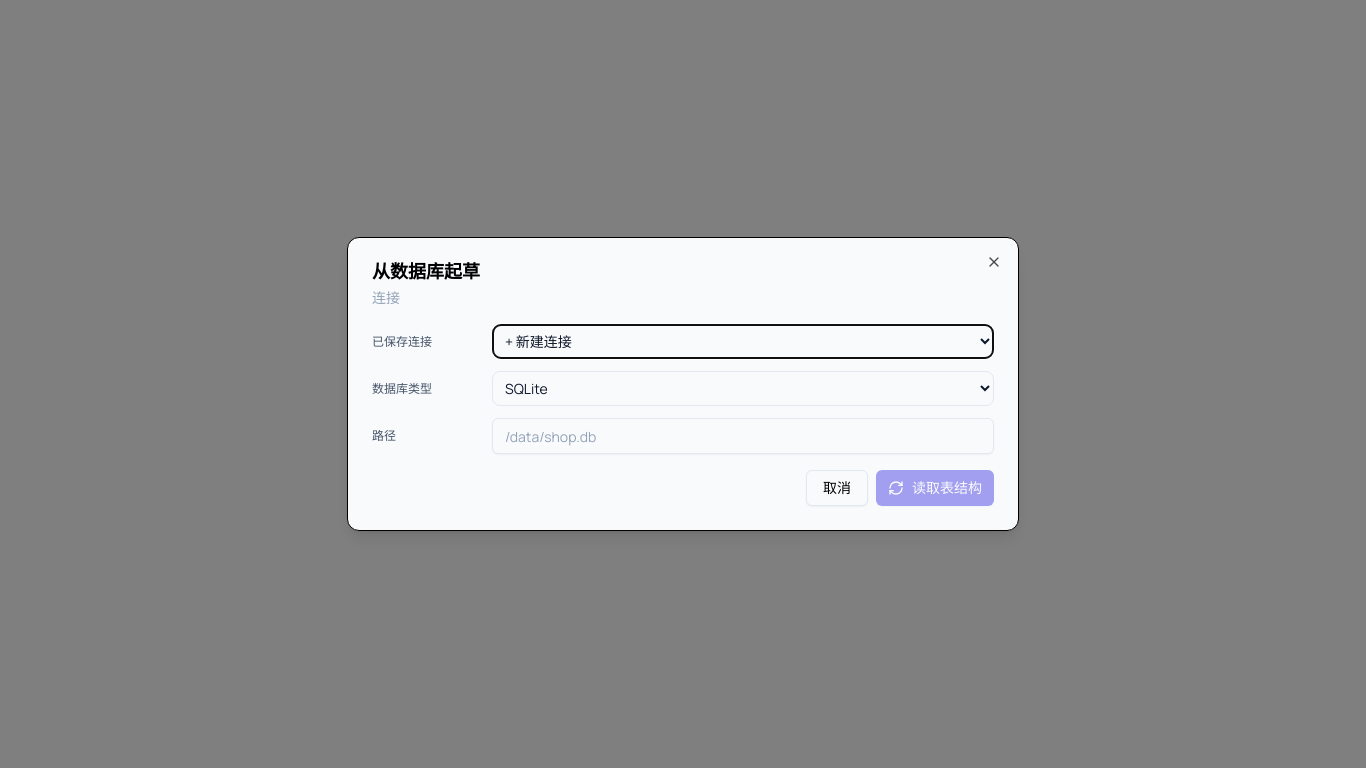
DraftFromDbDialog — step 1 连接 › POSTs sqlite raw values and advances to the tables step
The width and height of the screenshot is (1366, 768).
Type "/tmp/x.db" into the field named "路径".
click(743, 436); type("/tmp/x.db")  # box 492,418 -> 994,454
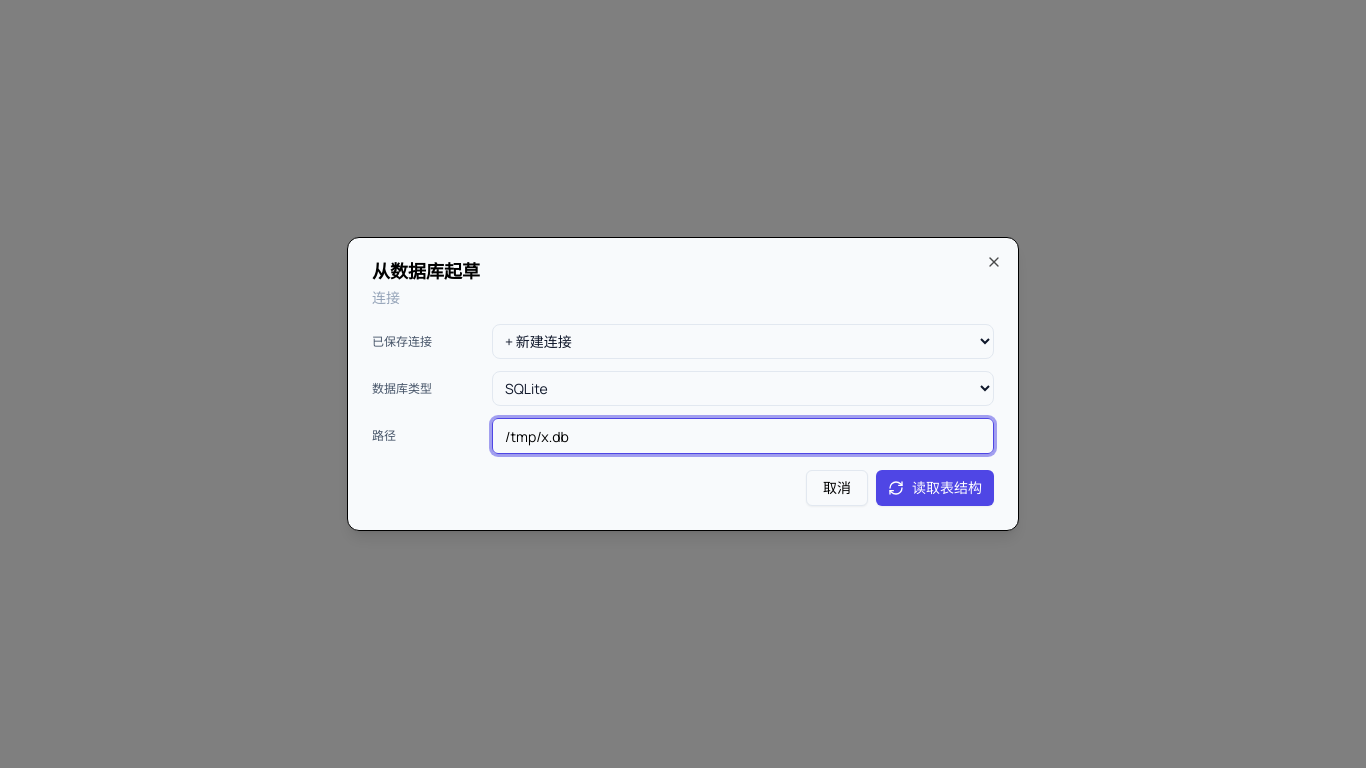
Click the button "读取表结构".
click(935, 488)  # box 876,470 -> 994,506
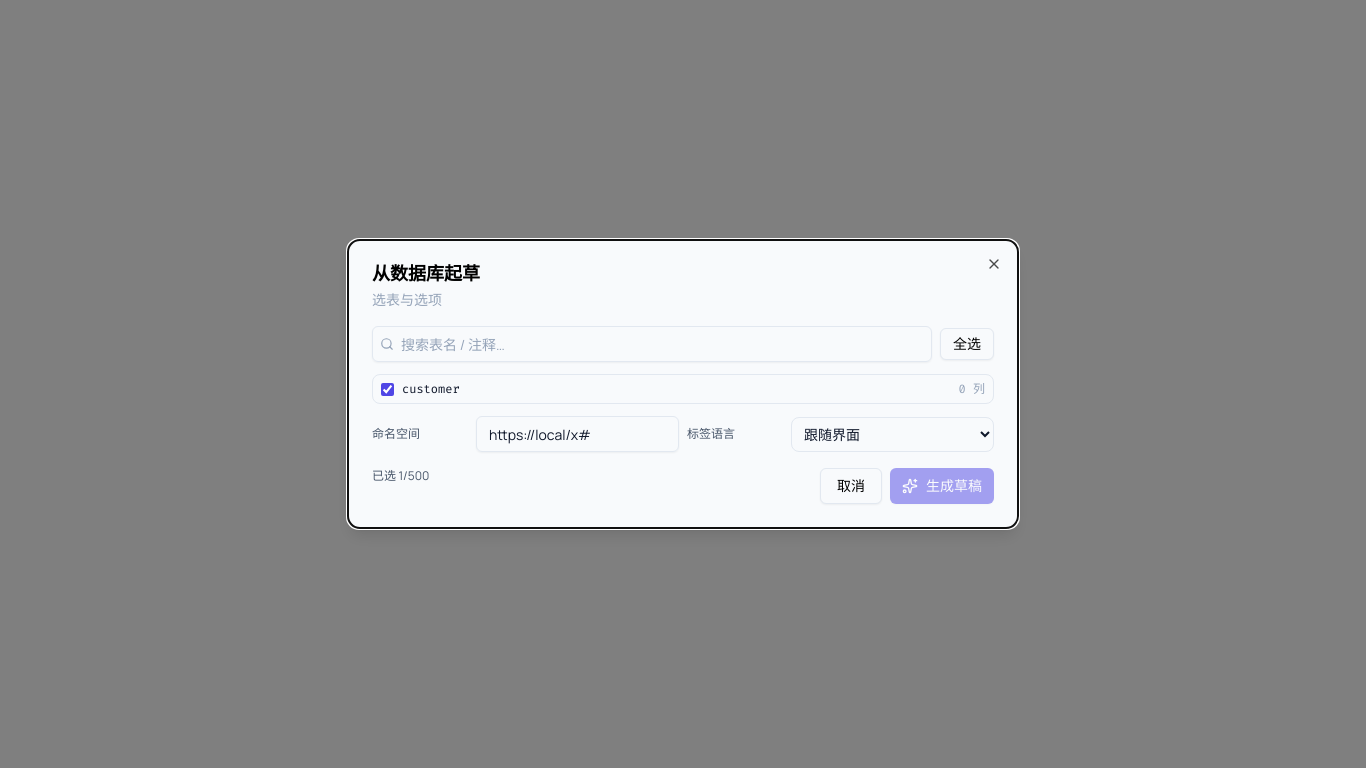
Result: the text "选表与选项" is shown at 372,290 -> 442,309
Result: the text labelled "路径" is gone
